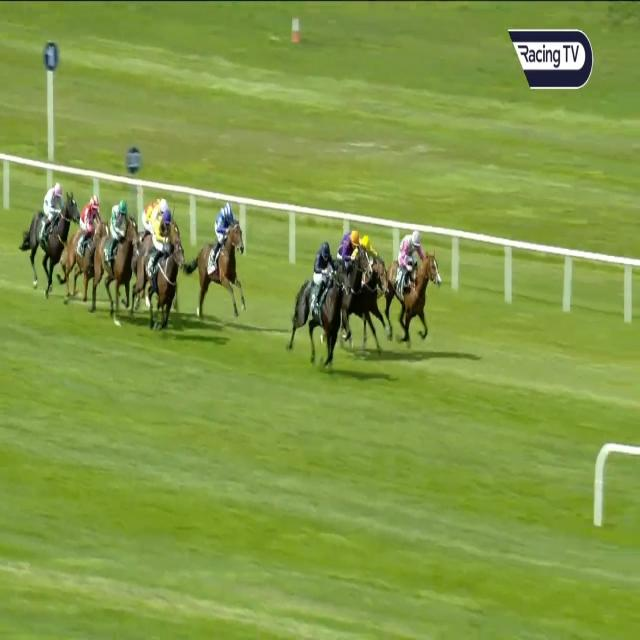horses-racing: (384, 230, 442, 351), (193, 202, 245, 328), (294, 241, 350, 355), (137, 211, 183, 330), (28, 184, 80, 287), (63, 195, 109, 310), (92, 198, 136, 318), (361, 229, 387, 304), (138, 196, 171, 235), (334, 227, 365, 260)
